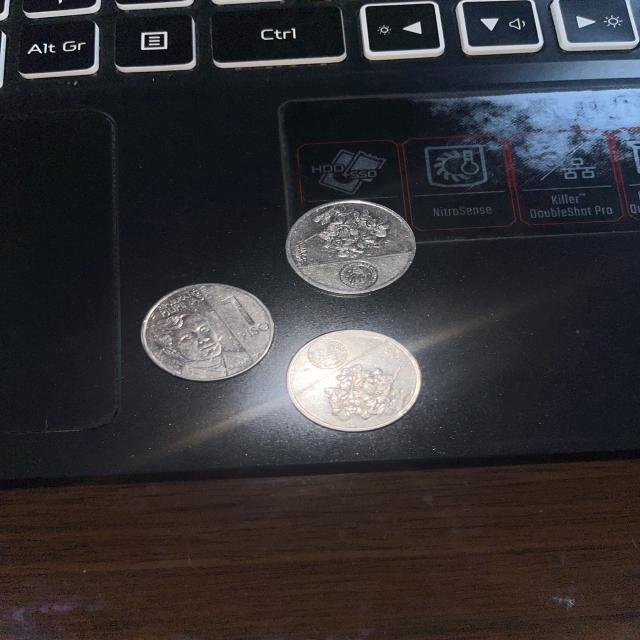1_New_Back: (321, 348, 409, 431), (313, 206, 395, 264)
1_New_Front: (222, 294, 271, 341)
